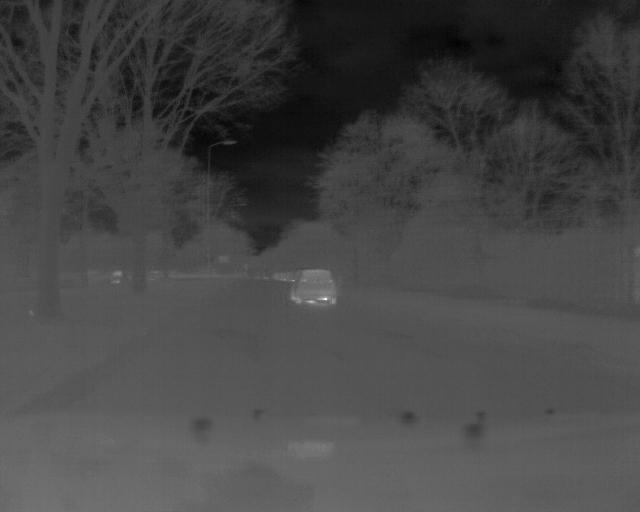car: (288, 268, 338, 311)
